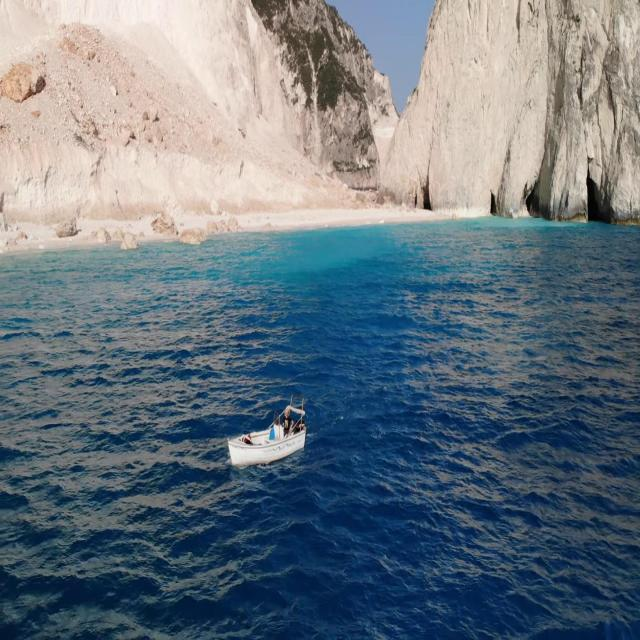boat: (240, 400, 310, 476)
